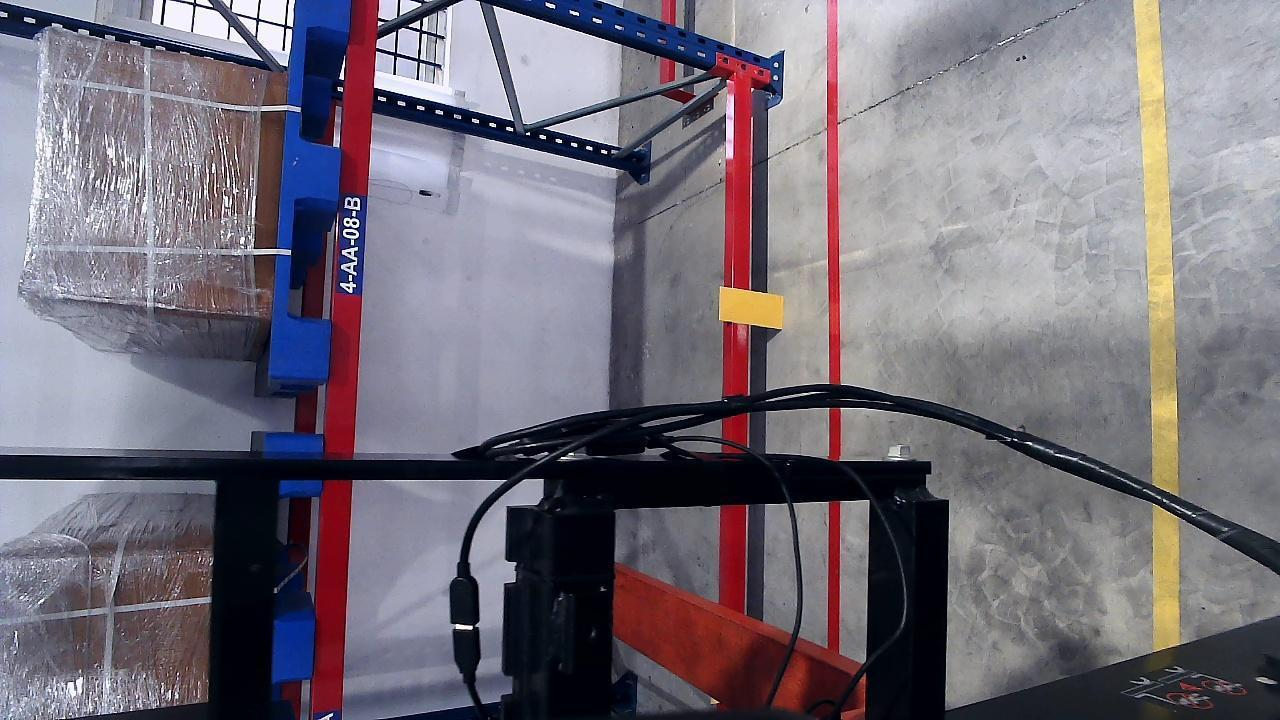red_line: (822, 2, 844, 385)
yellow_line: (1134, 0, 1181, 506)
